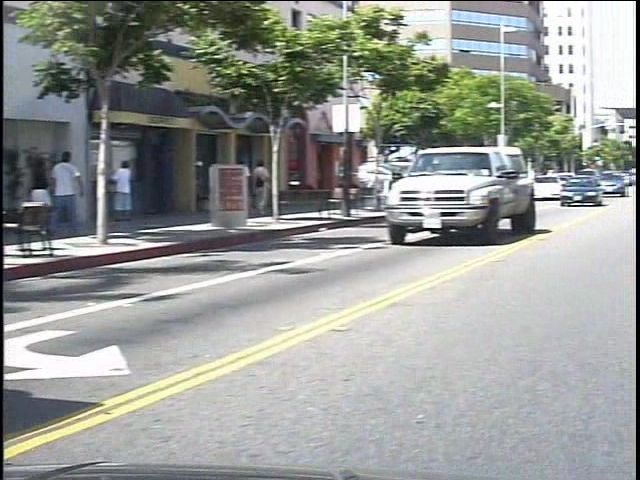person: (63, 147, 99, 254), (41, 149, 71, 240), (124, 150, 151, 228), (265, 159, 287, 220)
